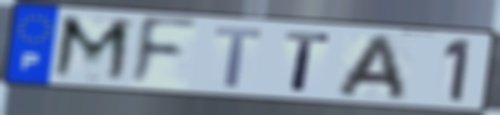1: (439, 38, 472, 105)
A: (332, 32, 410, 102)
F: (126, 15, 201, 90)
M: (49, 13, 136, 86)
T: (212, 24, 266, 90), (282, 29, 333, 94)
